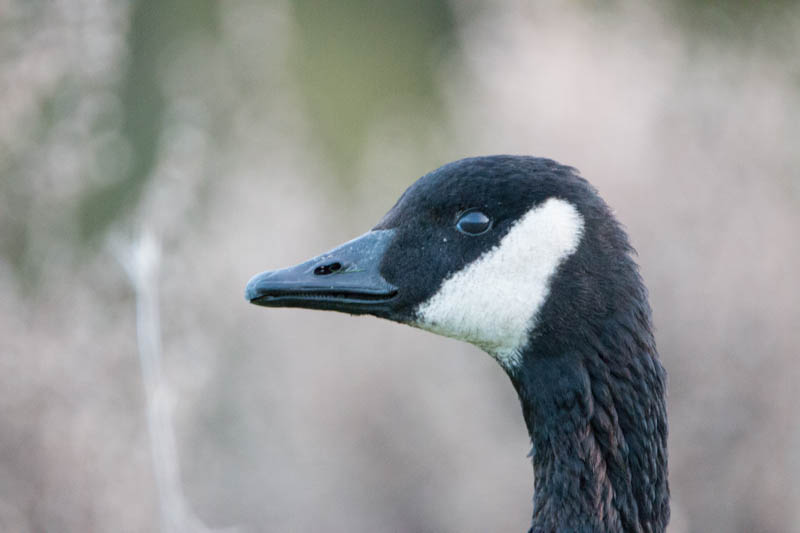goose-head: (241, 155, 633, 378)
